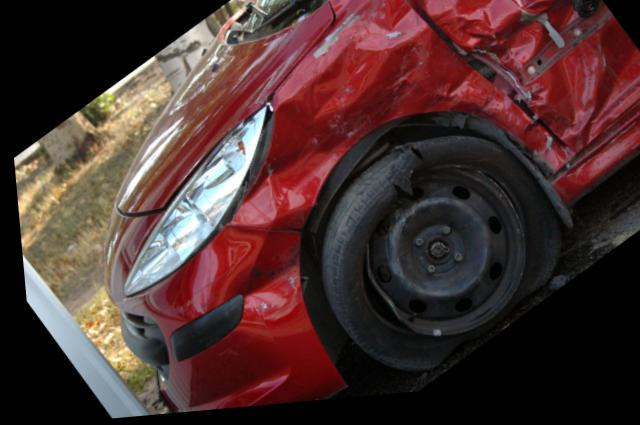dent: (243, 0, 533, 226), (431, 0, 600, 157), (153, 236, 289, 328)
tire flat: (314, 140, 558, 378)
